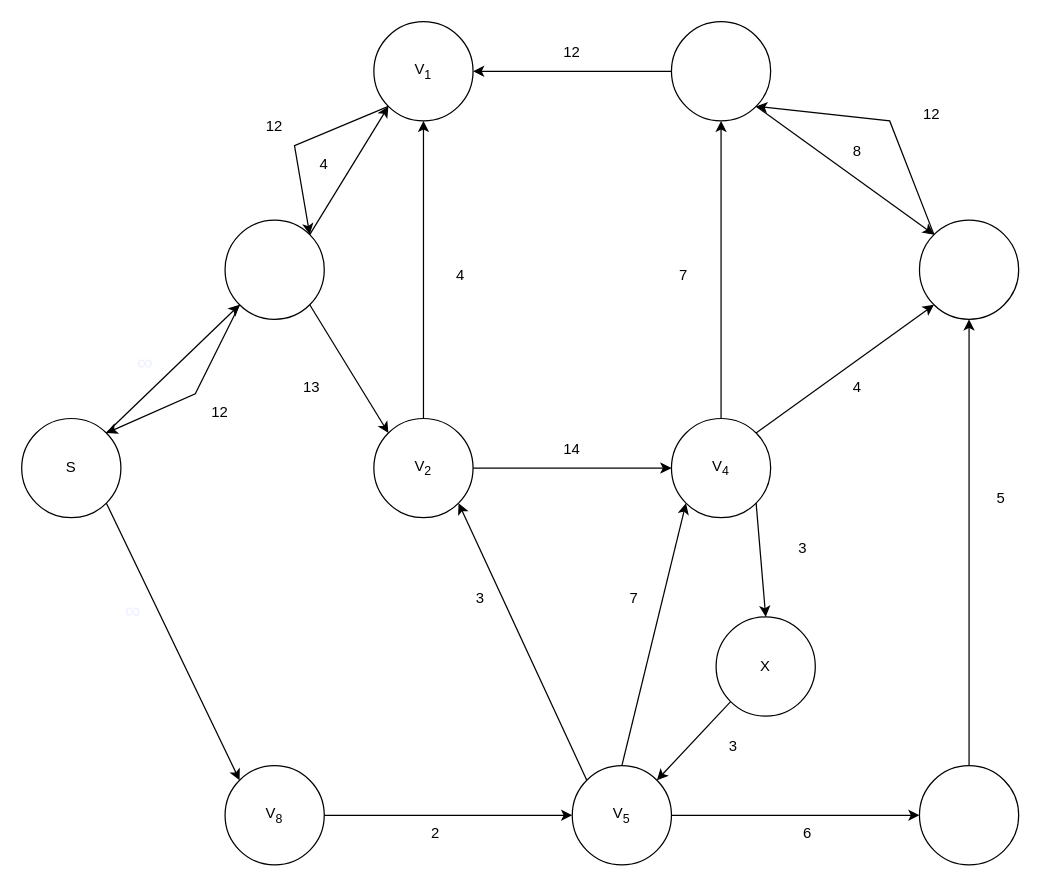
Image size: 1060x887. Some labels were removed from this diagram. The shapes that lost their labels are listed below. From the top down, each one's centre as x and y in pixels, then its label:
(x=720, y=70): V 3
(x=274, y=269): V 0
(x=968, y=269): V 6
(x=968, y=814): V 7
